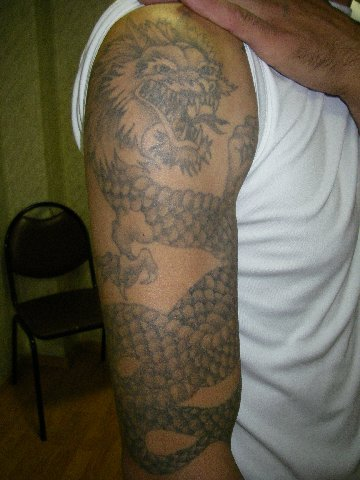tatu6_drakon: (86, 15, 258, 474)
